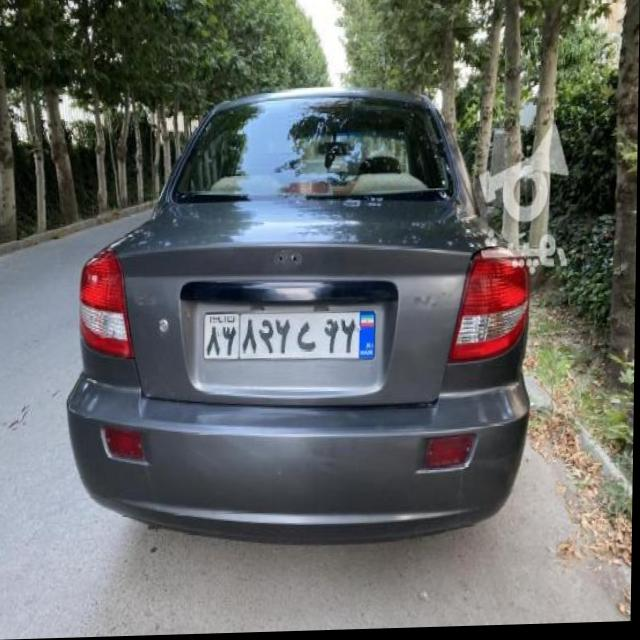licence: (203, 308, 379, 361)
